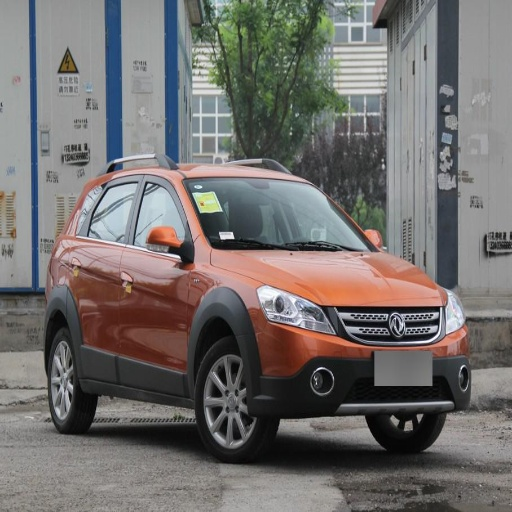front_bumper: (257, 306, 470, 413)
front_right_door: (119, 175, 193, 393)
front_right_light: (259, 286, 334, 333)
